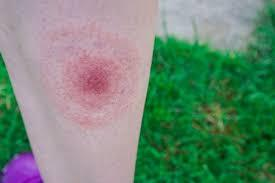Tick: (51, 24, 143, 124)
